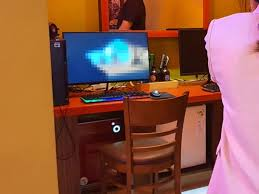Chair: (102, 93, 193, 193)
